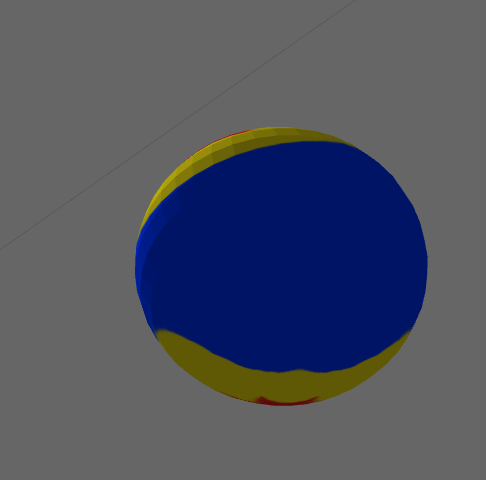toy story ball: (135, 127, 428, 405)
